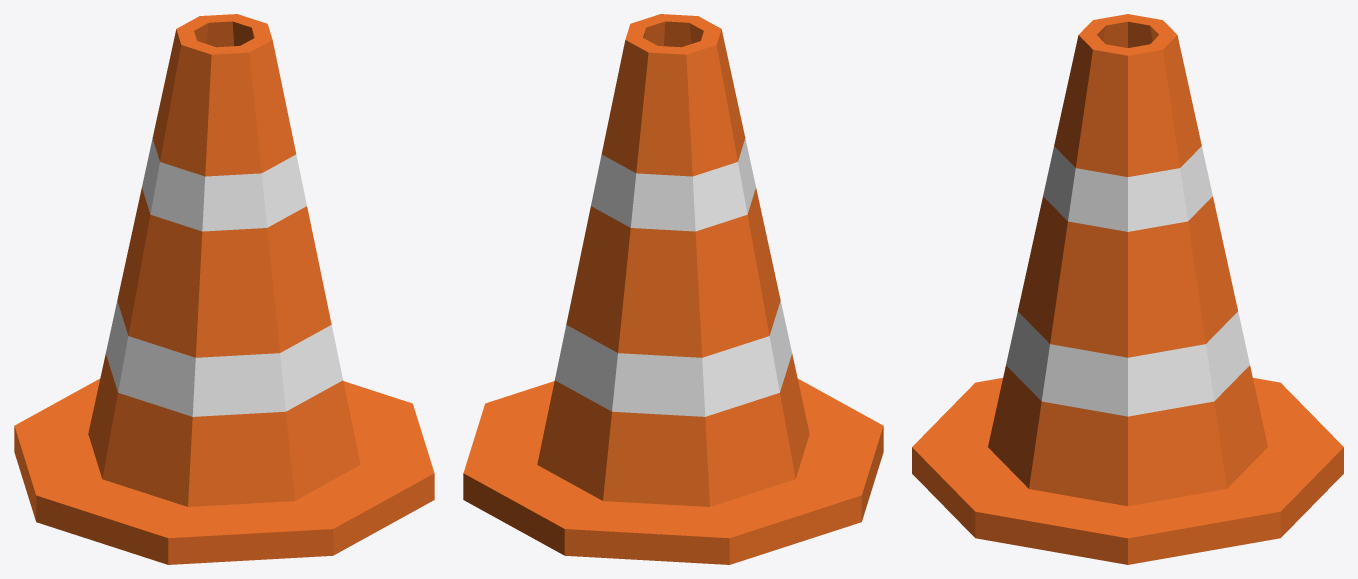
File: Traffic_Cone.fbx
3 renders of one model, left to right at view 1: azimuth 30°, elevation 25°; view 2: azimuth 150°, elevation 25°; view 3: azimuth 270°, elevation 25°, orthographic.
Parts seen in each view (by area): view 1: Traffic Cone; view 2: Traffic Cone; view 3: Traffic Cone.
Boxes of the visible parts, x1,y1,x2,y2 form: Traffic Cone: (14, 14, 434, 564); Traffic Cone: (463, 14, 883, 564); Traffic Cone: (912, 14, 1343, 564).
Size of the model in its own units: 200 by 224 by 200.
